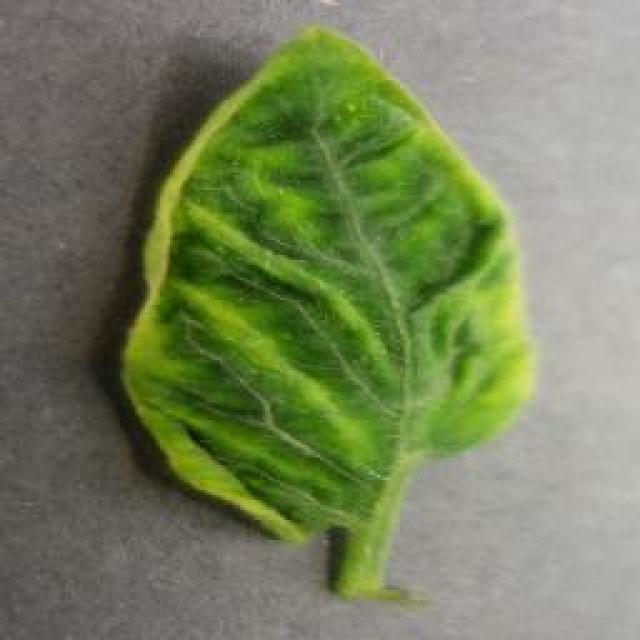Tom_Yellow_Leaf_Curl_Virus: (176, 36, 532, 525)
